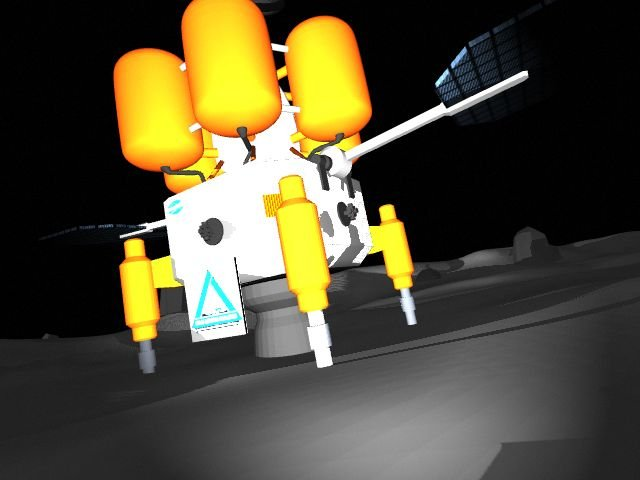basemarker: (192, 269, 243, 333)
